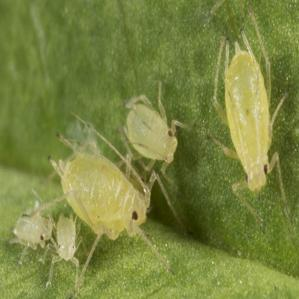Green peach aphid: (193, 31, 297, 221), (46, 125, 162, 263), (108, 80, 194, 166), (0, 196, 61, 266), (45, 209, 98, 285)
